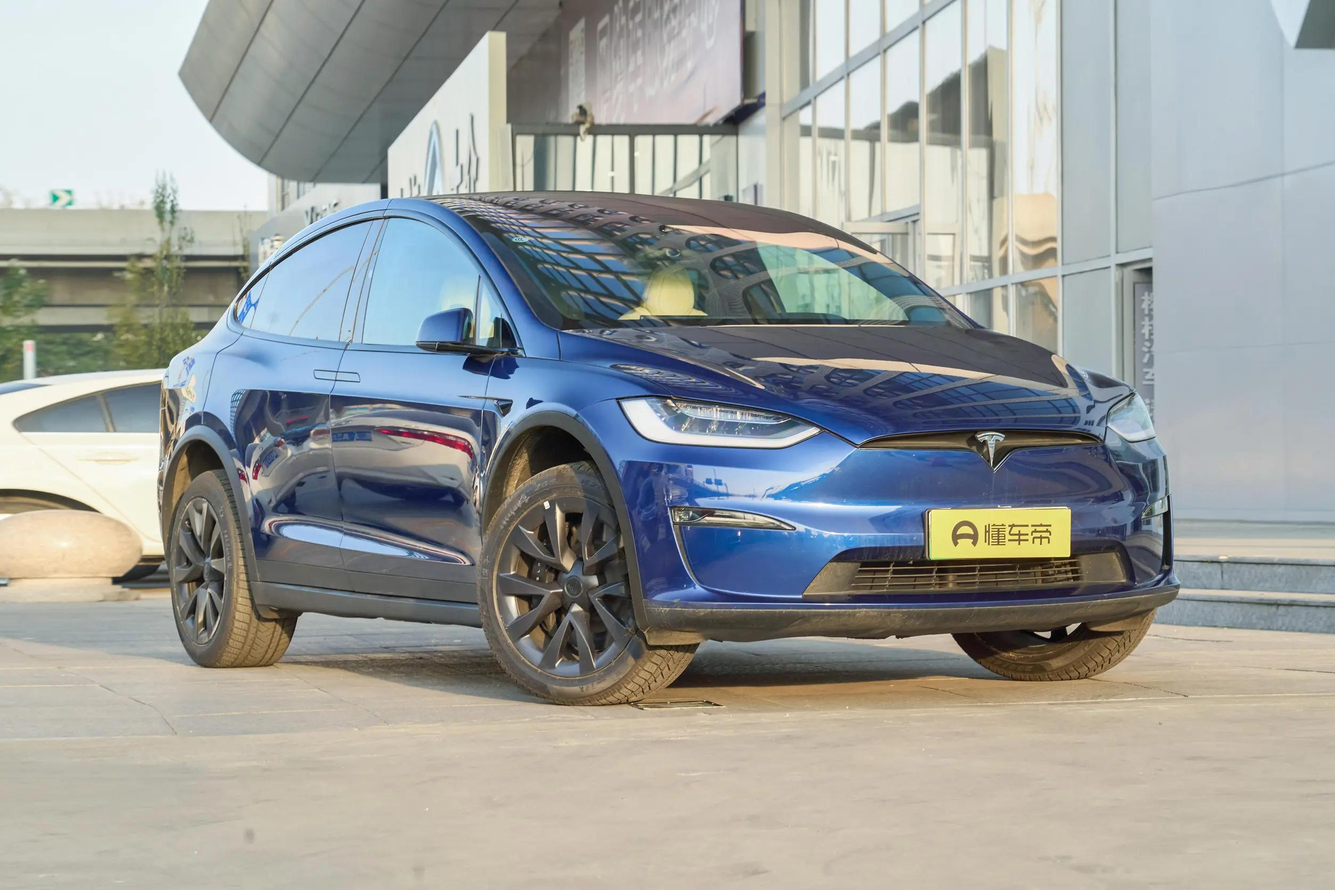Tesla: (976, 432, 1006, 467)
